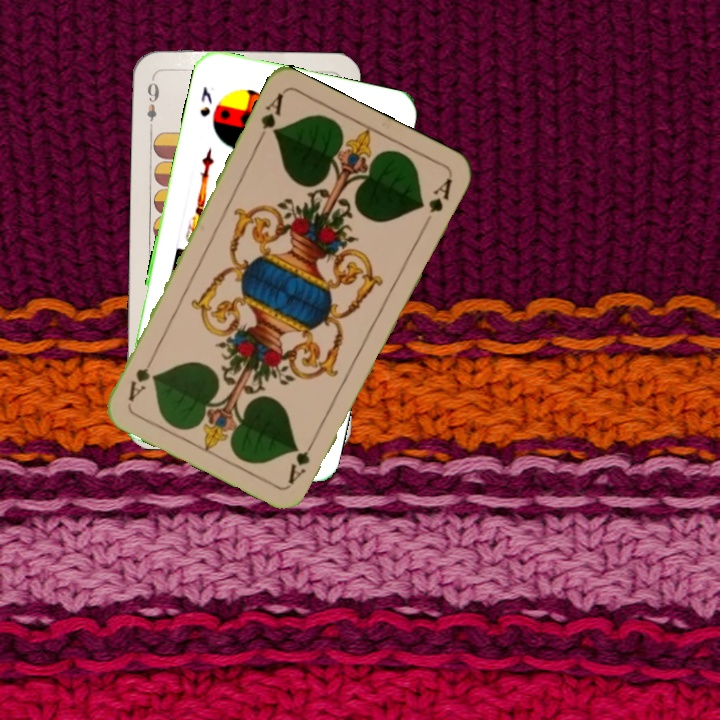E9: (143, 74, 162, 124)
GA: (283, 432, 320, 487), (253, 89, 286, 146)
SK: (196, 82, 217, 120)
